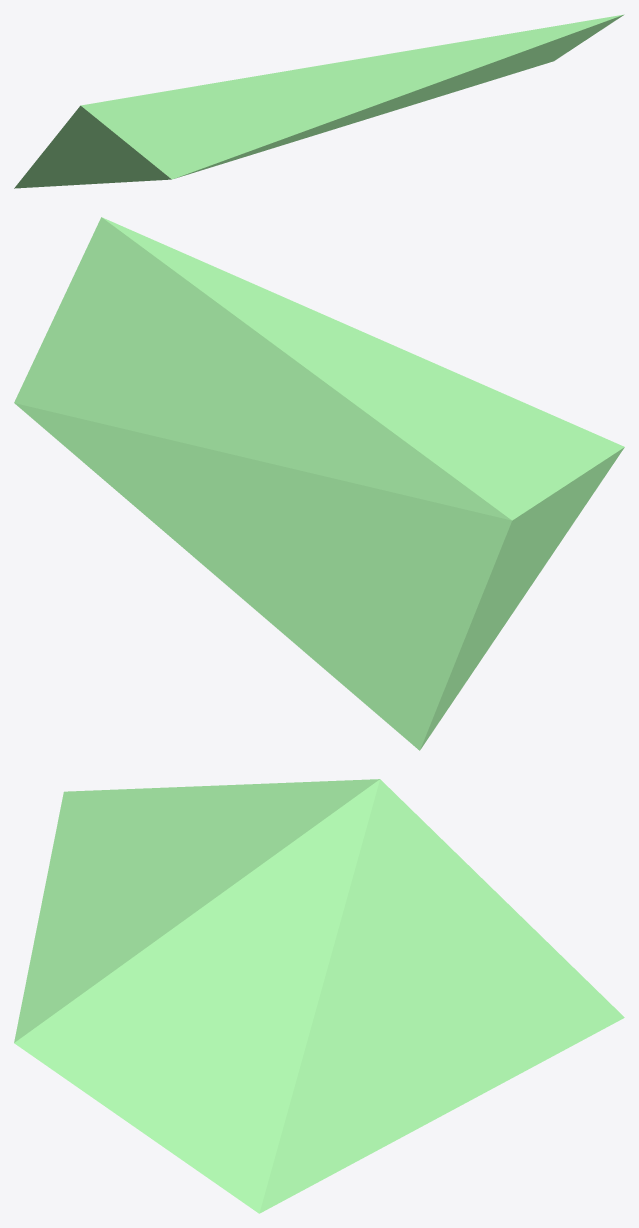
The model's file is linkhou_LR4_R560_link7_respondable_coll_31.dae.
3 views of the same model, one above another, from view 1: azimuth 30°, elevation 25°; view 2: azimuth 150°, elevation 25°; view 3: azimuth 270°, elevation 25° (orthographic). The views are drawn at different scales.
Visible parts, largest first — view 1: Node_00000209DB3AC2E0; view 2: Node_00000209DB3AC2E0; view 3: Node_00000209DB3AC2E0.
Boxes of the visible parts, <box> form: Node_00000209DB3AC2E0: <box>14,14,624,188</box>; Node_00000209DB3AC2E0: <box>14,217,624,750</box>; Node_00000209DB3AC2E0: <box>14,779,624,1213</box>.
Size of the model in its own units: 0.00903 by 0.00388 by 0.0063.
